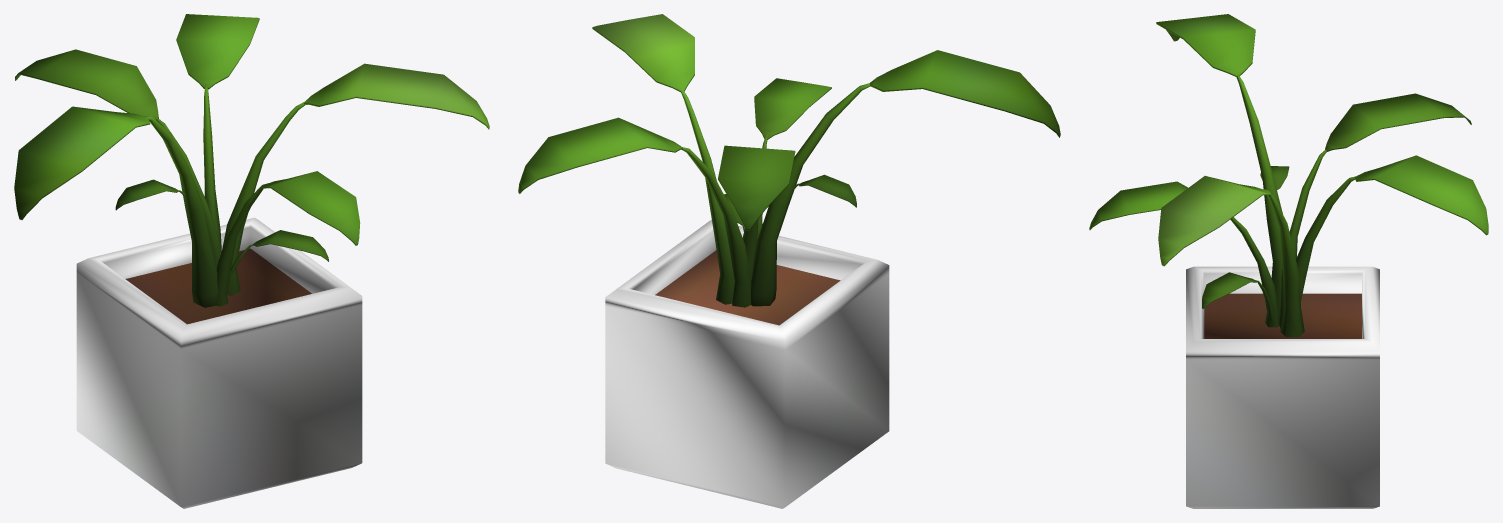
File: plant.glb
3 renders of one model, left to right at view 1: azimuth 30°, elevation 25°; view 2: azimuth 150°, elevation 25°; view 3: azimuth 270°, elevation 25°, orthographic. The views are drawn at different scales.
Visible parts, largest first — view 1: Cube_0, Cylinder.005_1; view 2: Cube_0, Cylinder.005_1; view 3: Cube_0, Cylinder.005_1.
Part boxes in pixels (x1,y1,x2,y2): Cube_0: (76,217,362,508); Cylinder.005_1: (14,14,489,307); Cube_0: (605,220,889,508); Cylinder.005_1: (518,14,1060,307); Cube_0: (1186,266,1379,508); Cylinder.005_1: (1089,14,1488,336).
Bounding box in the file's own units: 5.12 × 4.22 × 4.12.
3 materials, 3 textured.
